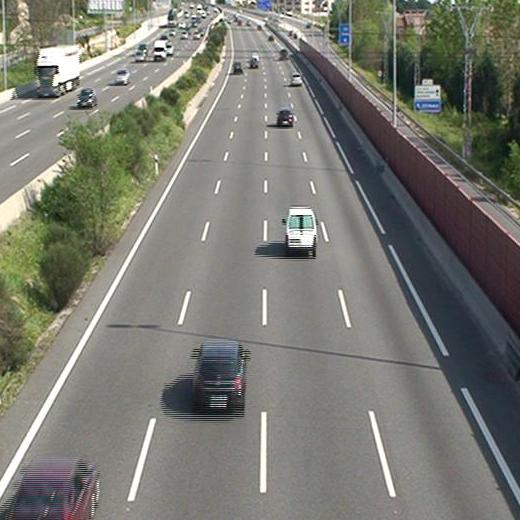car: (11, 455, 100, 520), (192, 342, 245, 407), (277, 108, 294, 127), (291, 74, 302, 85), (279, 48, 289, 59), (233, 61, 242, 72), (250, 58, 260, 67)
van: (283, 208, 317, 253)
